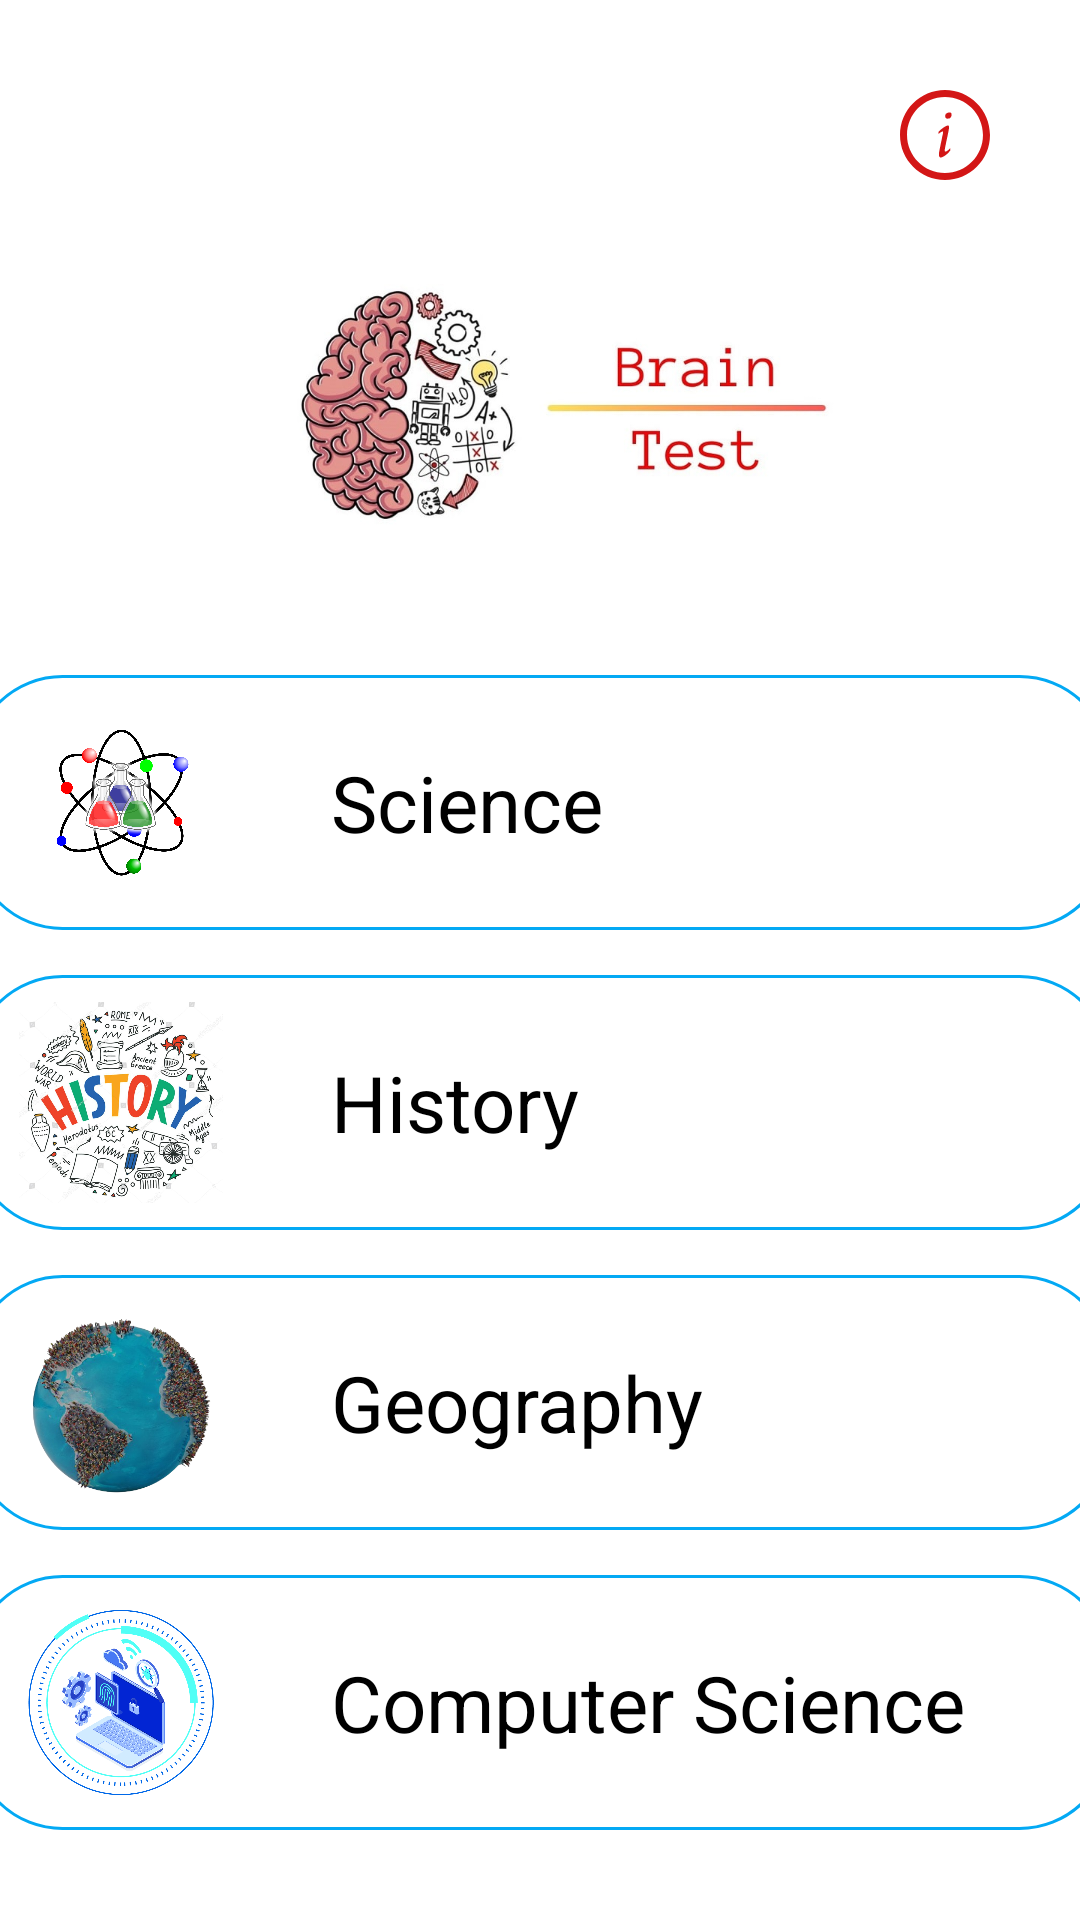

Locate icon controls on the screen. Image size 1080*1920, boxes as detection(x1, y1, x2, y2).
info: detection(900, 90, 990, 180)
